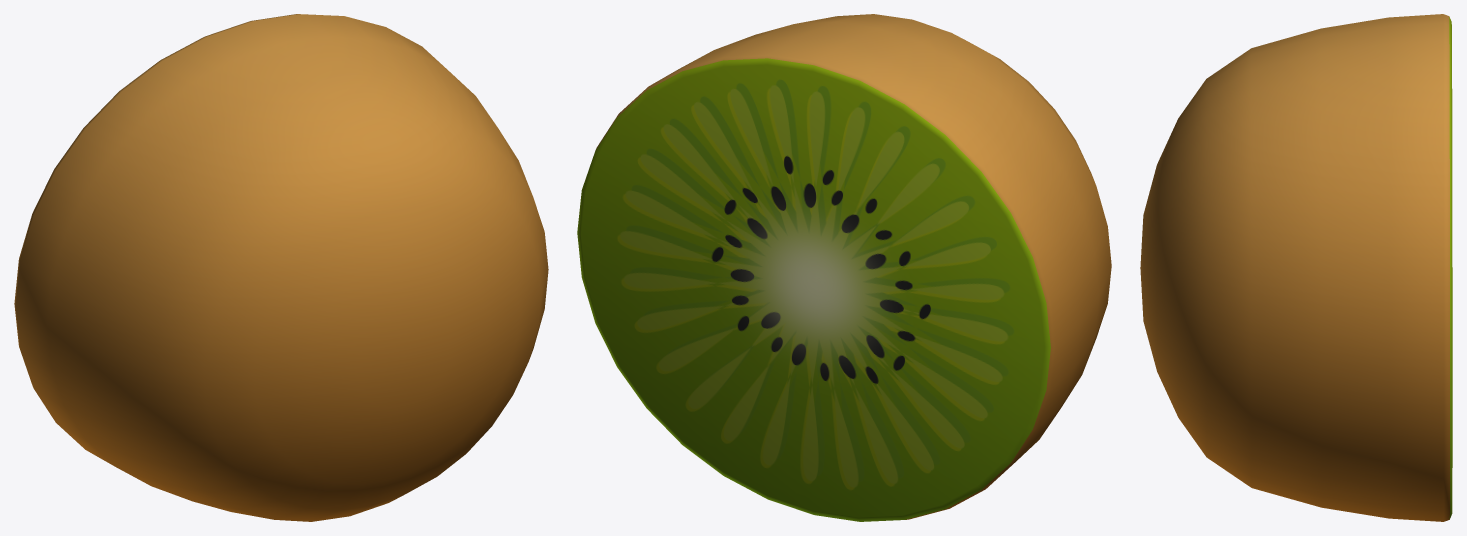
Rendered from Kiwi.fbx.
3 renders of one model, left to right at view 1: azimuth 30°, elevation 25°; view 2: azimuth 150°, elevation 25°; view 3: azimuth 270°, elevation 25°, orthographic.
Parts seen in each view (by area): view 1: Kiwi; view 2: Kiwi; view 3: Kiwi.
Part boxes in pixels (<box>): Kiwi: <box>14,14,548,521</box>; Kiwi: <box>577,14,1111,521</box>; Kiwi: <box>1140,14,1452,521</box>.
Size of the model in its own units: 6.82 by 6.2 by 3.87.
